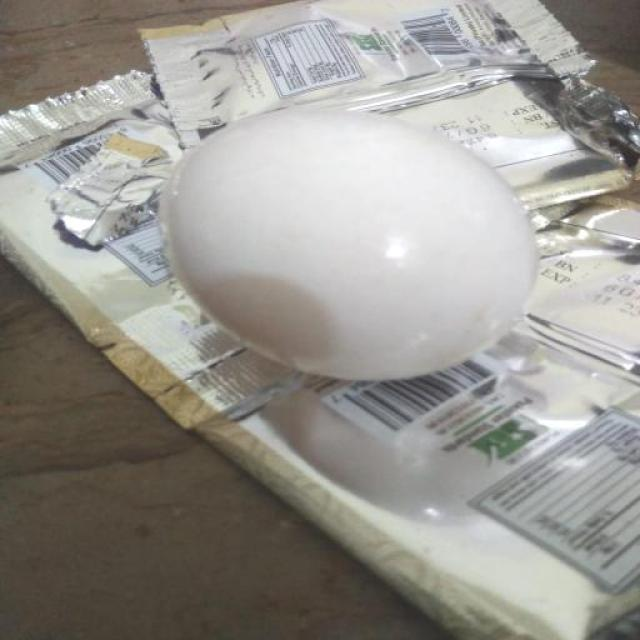telur: (165, 110, 534, 382)
